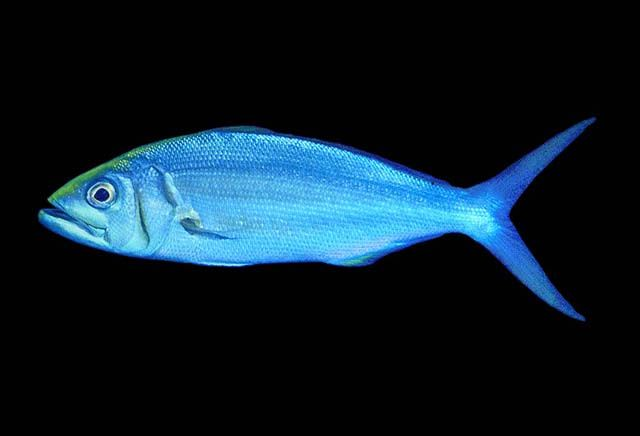fish: (39, 125, 588, 324)
